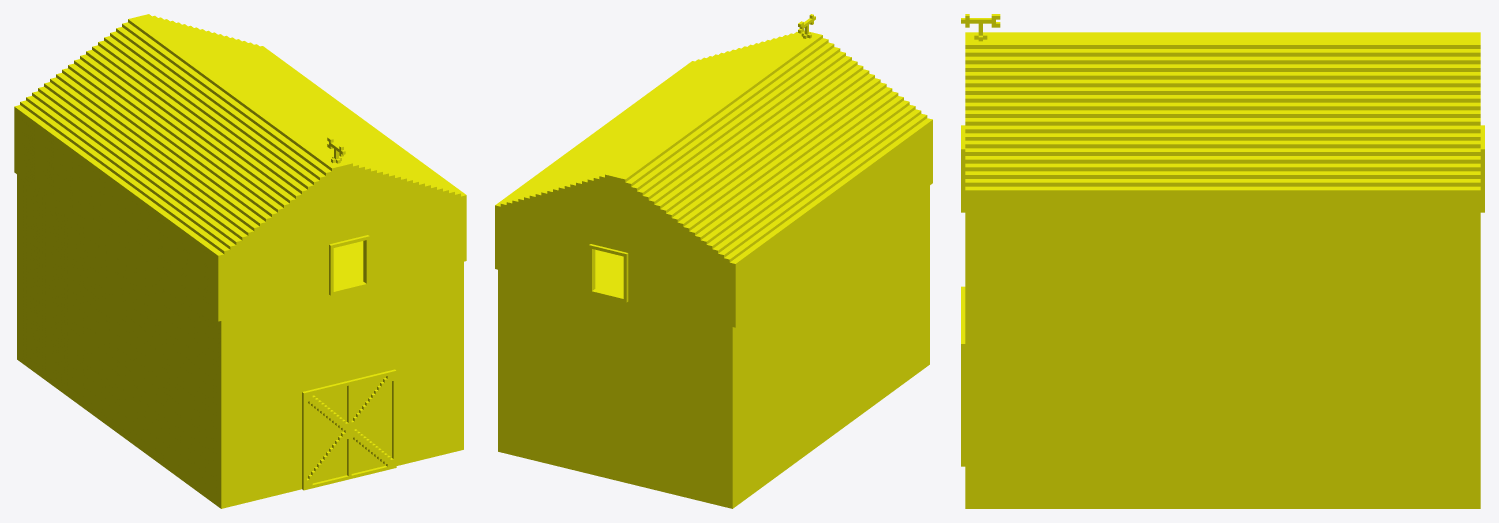
File: voxel-farm-barn.glb
3 views of the same model, side by side, from view 1: azimuth 30°, elevation 25°; view 2: azimuth 150°, elevation 25°; view 3: azimuth 270°, elevation 25° (orthographic). The views are drawn at different scales.
Visible parts, largest first — view 1: VS_Farm_Barn; view 2: VS_Farm_Barn; view 3: VS_Farm_Barn.
Boxes of the visible parts, <box> form: VS_Farm_Barn: <box>14,14,466,508</box>; VS_Farm_Barn: <box>495,14,932,508</box>; VS_Farm_Barn: <box>961,14,1484,508</box>.
Bounding box in the file's own units: 8.3 × 10.6 × 12.
